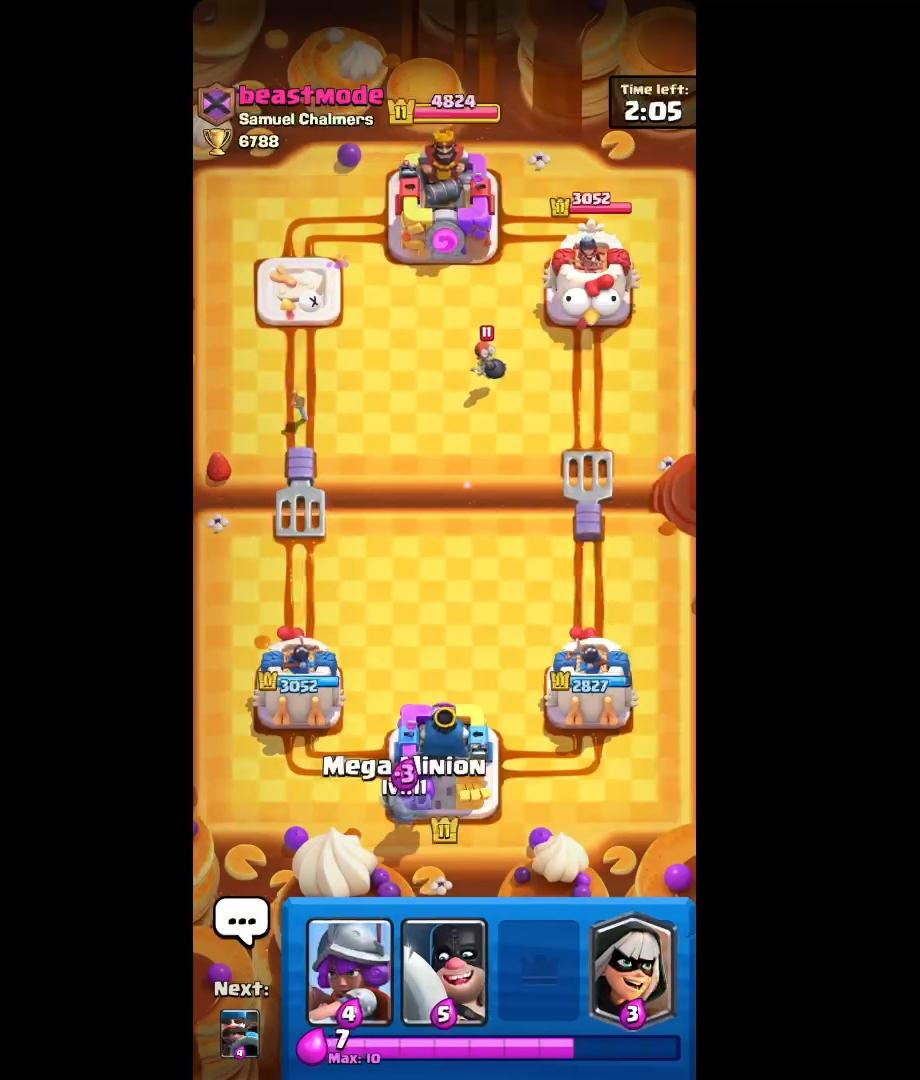Bomber: (459, 321, 513, 390)
